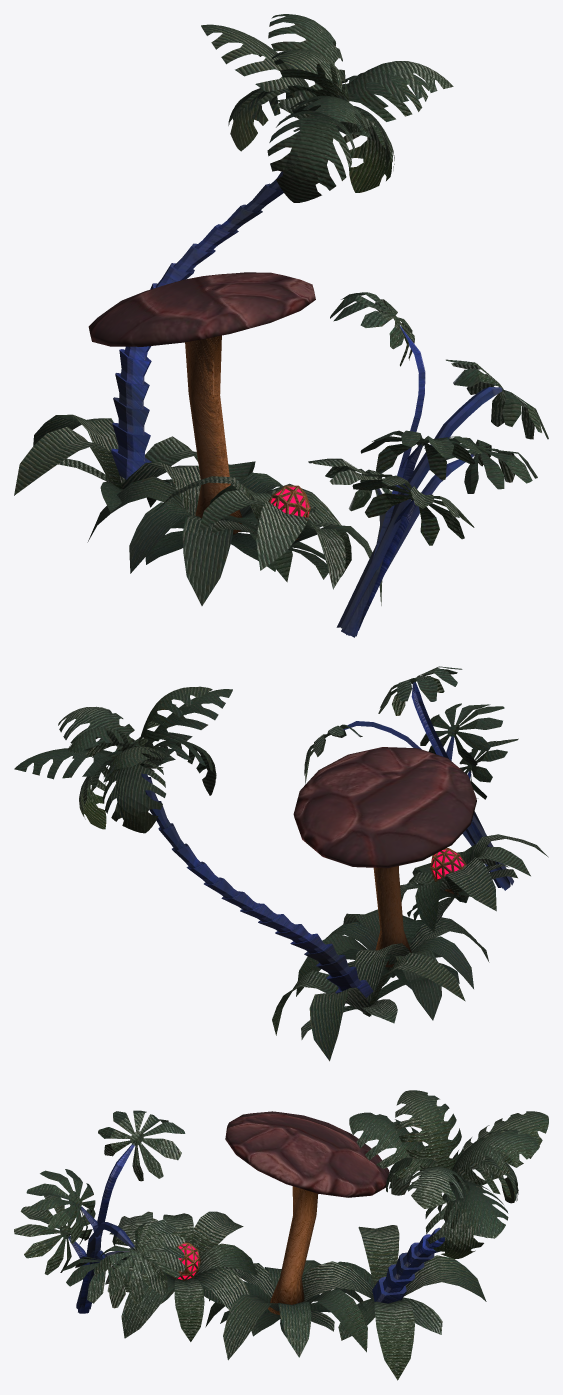
File: track4Structure1.glb
3 views of the same model, one above another, from view 1: azimuth 30°, elevation 25°; view 2: azimuth 150°, elevation 25°; view 3: azimuth 270°, elevation 25° (orthographic). The views are drawn at different scales.
Parts seen in each view (by area): view 1: track4Structure1; view 2: track4Structure1; view 3: track4Structure1.
Boxes of the visible parts, bbox=[...] form: track4Structure1: bbox=[14, 14, 548, 637]; track4Structure1: bbox=[14, 666, 548, 1061]; track4Structure1: bbox=[14, 1090, 548, 1380].
Size of the model in its own units: 11.35 by 9.45 by 14.38.
3 materials, 1 textured.
